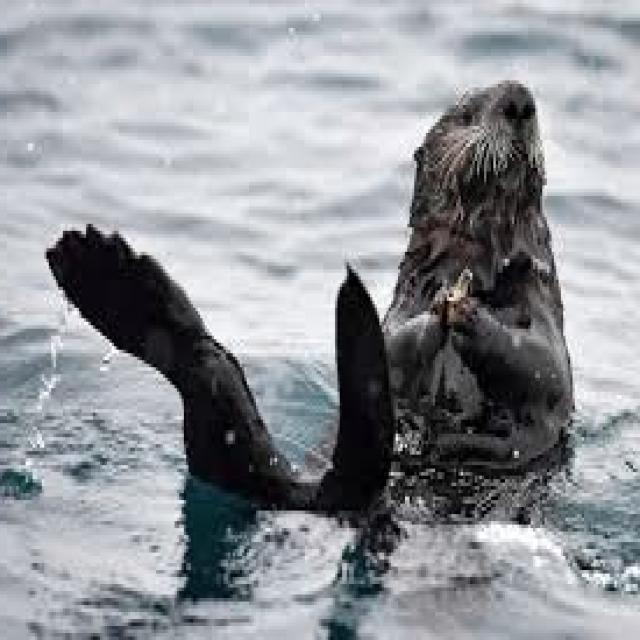otter: (49, 80, 575, 518)
